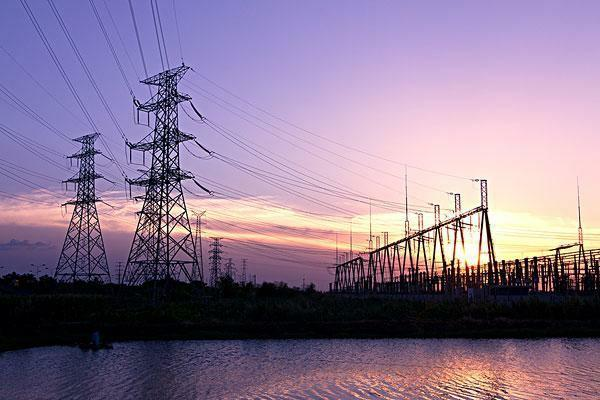power_tower: (122, 56, 218, 287), (53, 118, 119, 282)
